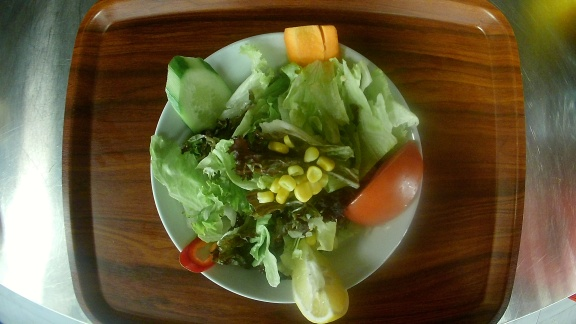salata: (150, 29, 423, 317)
